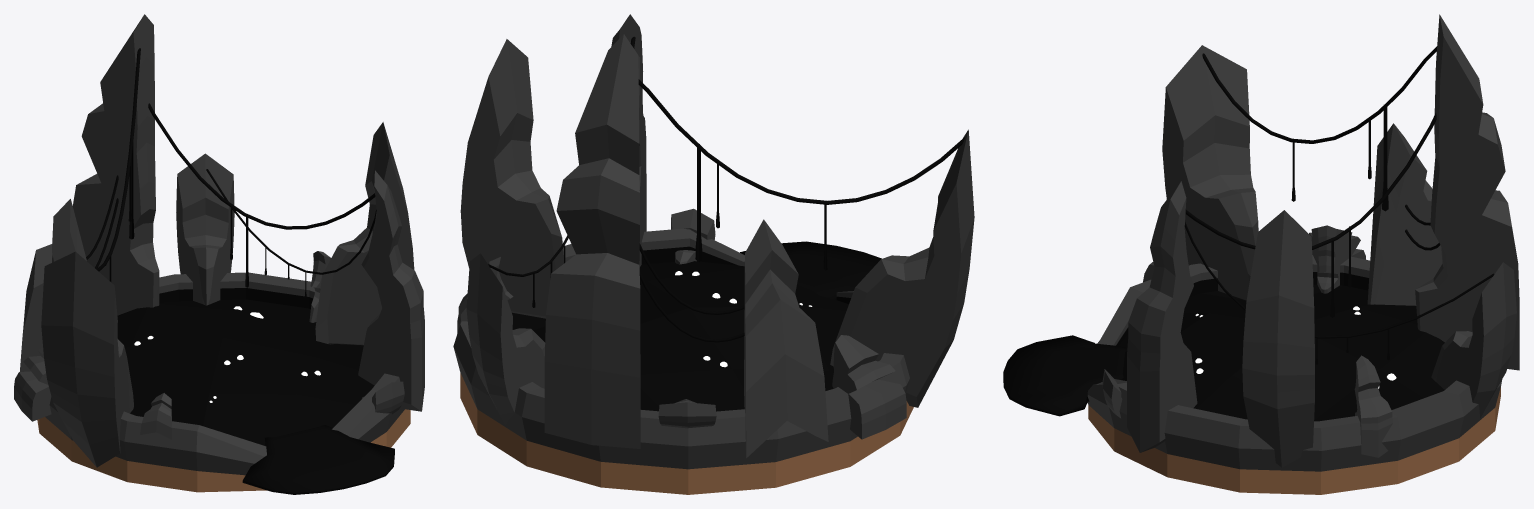
File: Blocking_nid_02.fbx
3 views of the same model, side by side, from view 1: azimuth 30°, elevation 25°; view 2: azimuth 150°, elevation 25°; view 3: azimuth 270°, elevation 25° (orthographic). The views are drawn at different scales.
Visible parts, largest first — view 1: MESH_Nid_Trapeur; view 2: MESH_Nid_Trapeur; view 3: MESH_Nid_Trapeur.
Boxes of the visible parts, box(x1,y1,x2,y2) form: MESH_Nid_Trapeur: box(14, 14, 424, 494); MESH_Nid_Trapeur: box(453, 14, 974, 494); MESH_Nid_Trapeur: box(1003, 14, 1519, 494).
Size of the model in its own units: 257 by 227 by 274.
